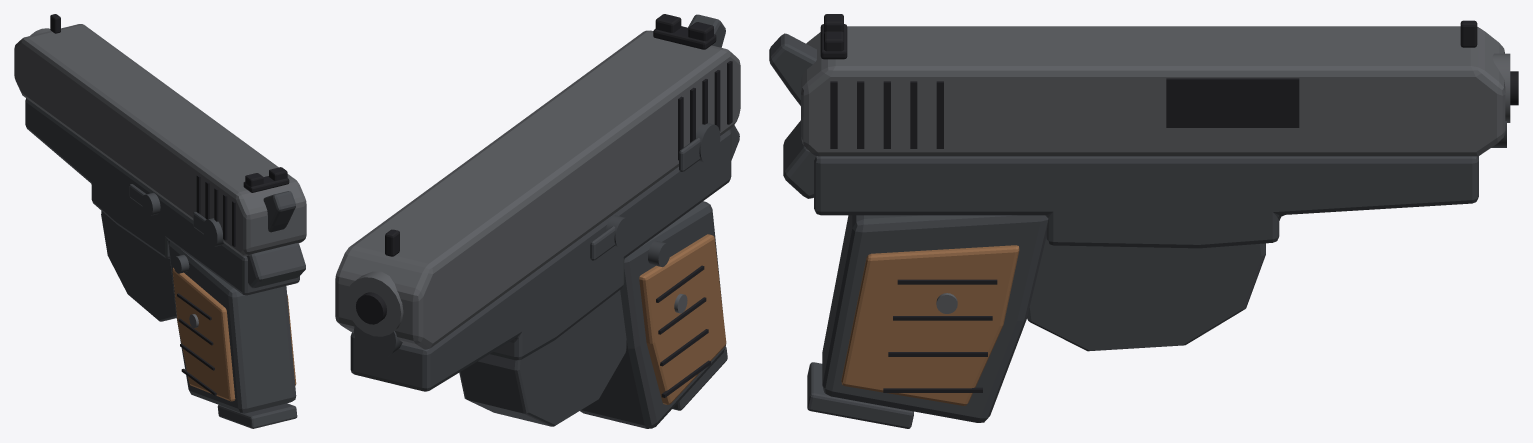
The model's file is pistol.glb.
The picture shows the model from 3 angles, left to right: view 1: azimuth 30°, elevation 25°; view 2: azimuth 150°, elevation 25°; view 3: azimuth 270°, elevation 25°; orthographic projection. The views are drawn at different scales.
Parts seen in each view (by area): view 1: Slide, Frame, Grip, GripPanelL, TriggerGuard, Beavertail, MagazineBase, Hammer, ThumbSafety, RearSightBase, SlideStop; view 2: Slide, Frame, TriggerGuard, GripPanelL, Grip, BarrelBushing, RecoilPlug, Barrel, ThumbSafety, RearSightBase, MagazineBase, SlideStopLever (+7 smaller); view 3: Slide, Frame, TriggerGuard, GripPanelR, Grip, EjectionPort, MagazineBase, Hammer, Beavertail.
Part boxes in pixels (box(x1,y1,x2,y2)): Slide: box(14, 24, 306, 256); Frame: box(25, 98, 299, 295); Grip: box(168, 241, 296, 413); GripPanelL: box(172, 267, 235, 401); TriggerGuard: box(101, 211, 176, 321); Beavertail: box(246, 243, 305, 288); MagazineBase: box(217, 403, 297, 428); Hammer: box(263, 191, 295, 232); ThumbSafety: box(203, 218, 223, 247); RearSightBase: box(243, 176, 289, 192); SlideStop: box(142, 192, 160, 215); Slide: box(335, 30, 740, 349); Frame: box(350, 129, 731, 391); TriggerGuard: box(459, 290, 626, 426); GripPanelL: box(639, 234, 726, 404); Grip: box(580, 201, 726, 428); BarrelBushing: box(345, 271, 403, 336); RecoilPlug: box(353, 324, 402, 358); Barrel: box(356, 292, 386, 324); ThumbSafety: box(696, 123, 720, 163); RearSightBase: box(653, 26, 716, 49); MagazineBase: box(672, 346, 727, 410); SlideStopLever: box(590, 226, 615, 260); Slide: box(801, 26, 1505, 156); Frame: box(814, 156, 1478, 248); TriggerGuard: box(1027, 237, 1265, 351); GripPanelR: box(841, 245, 1019, 405); Grip: box(822, 215, 1048, 422); EjectionPort: box(1166, 78, 1299, 127); MagazineBase: box(807, 362, 913, 428); Hammer: box(769, 33, 816, 105); Beavertail: box(783, 120, 816, 198).
Bounding box in the file's own units: 0.0383 × 0.1299 × 0.2255.
